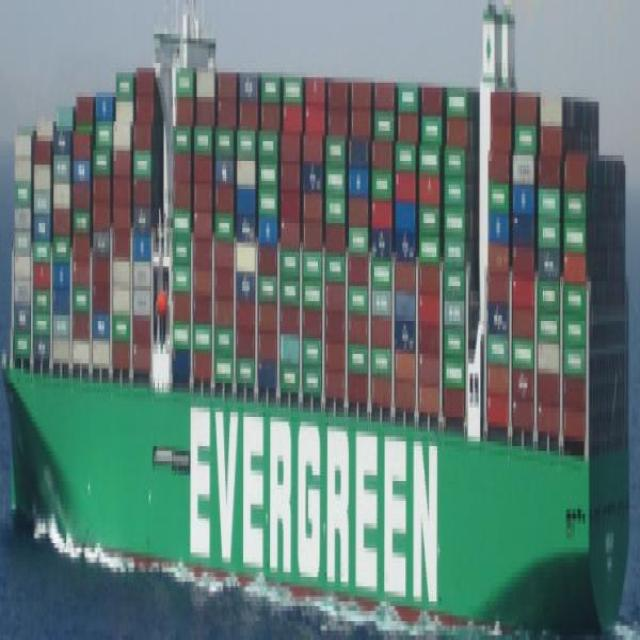Container Ship: (2, 1, 630, 636)
